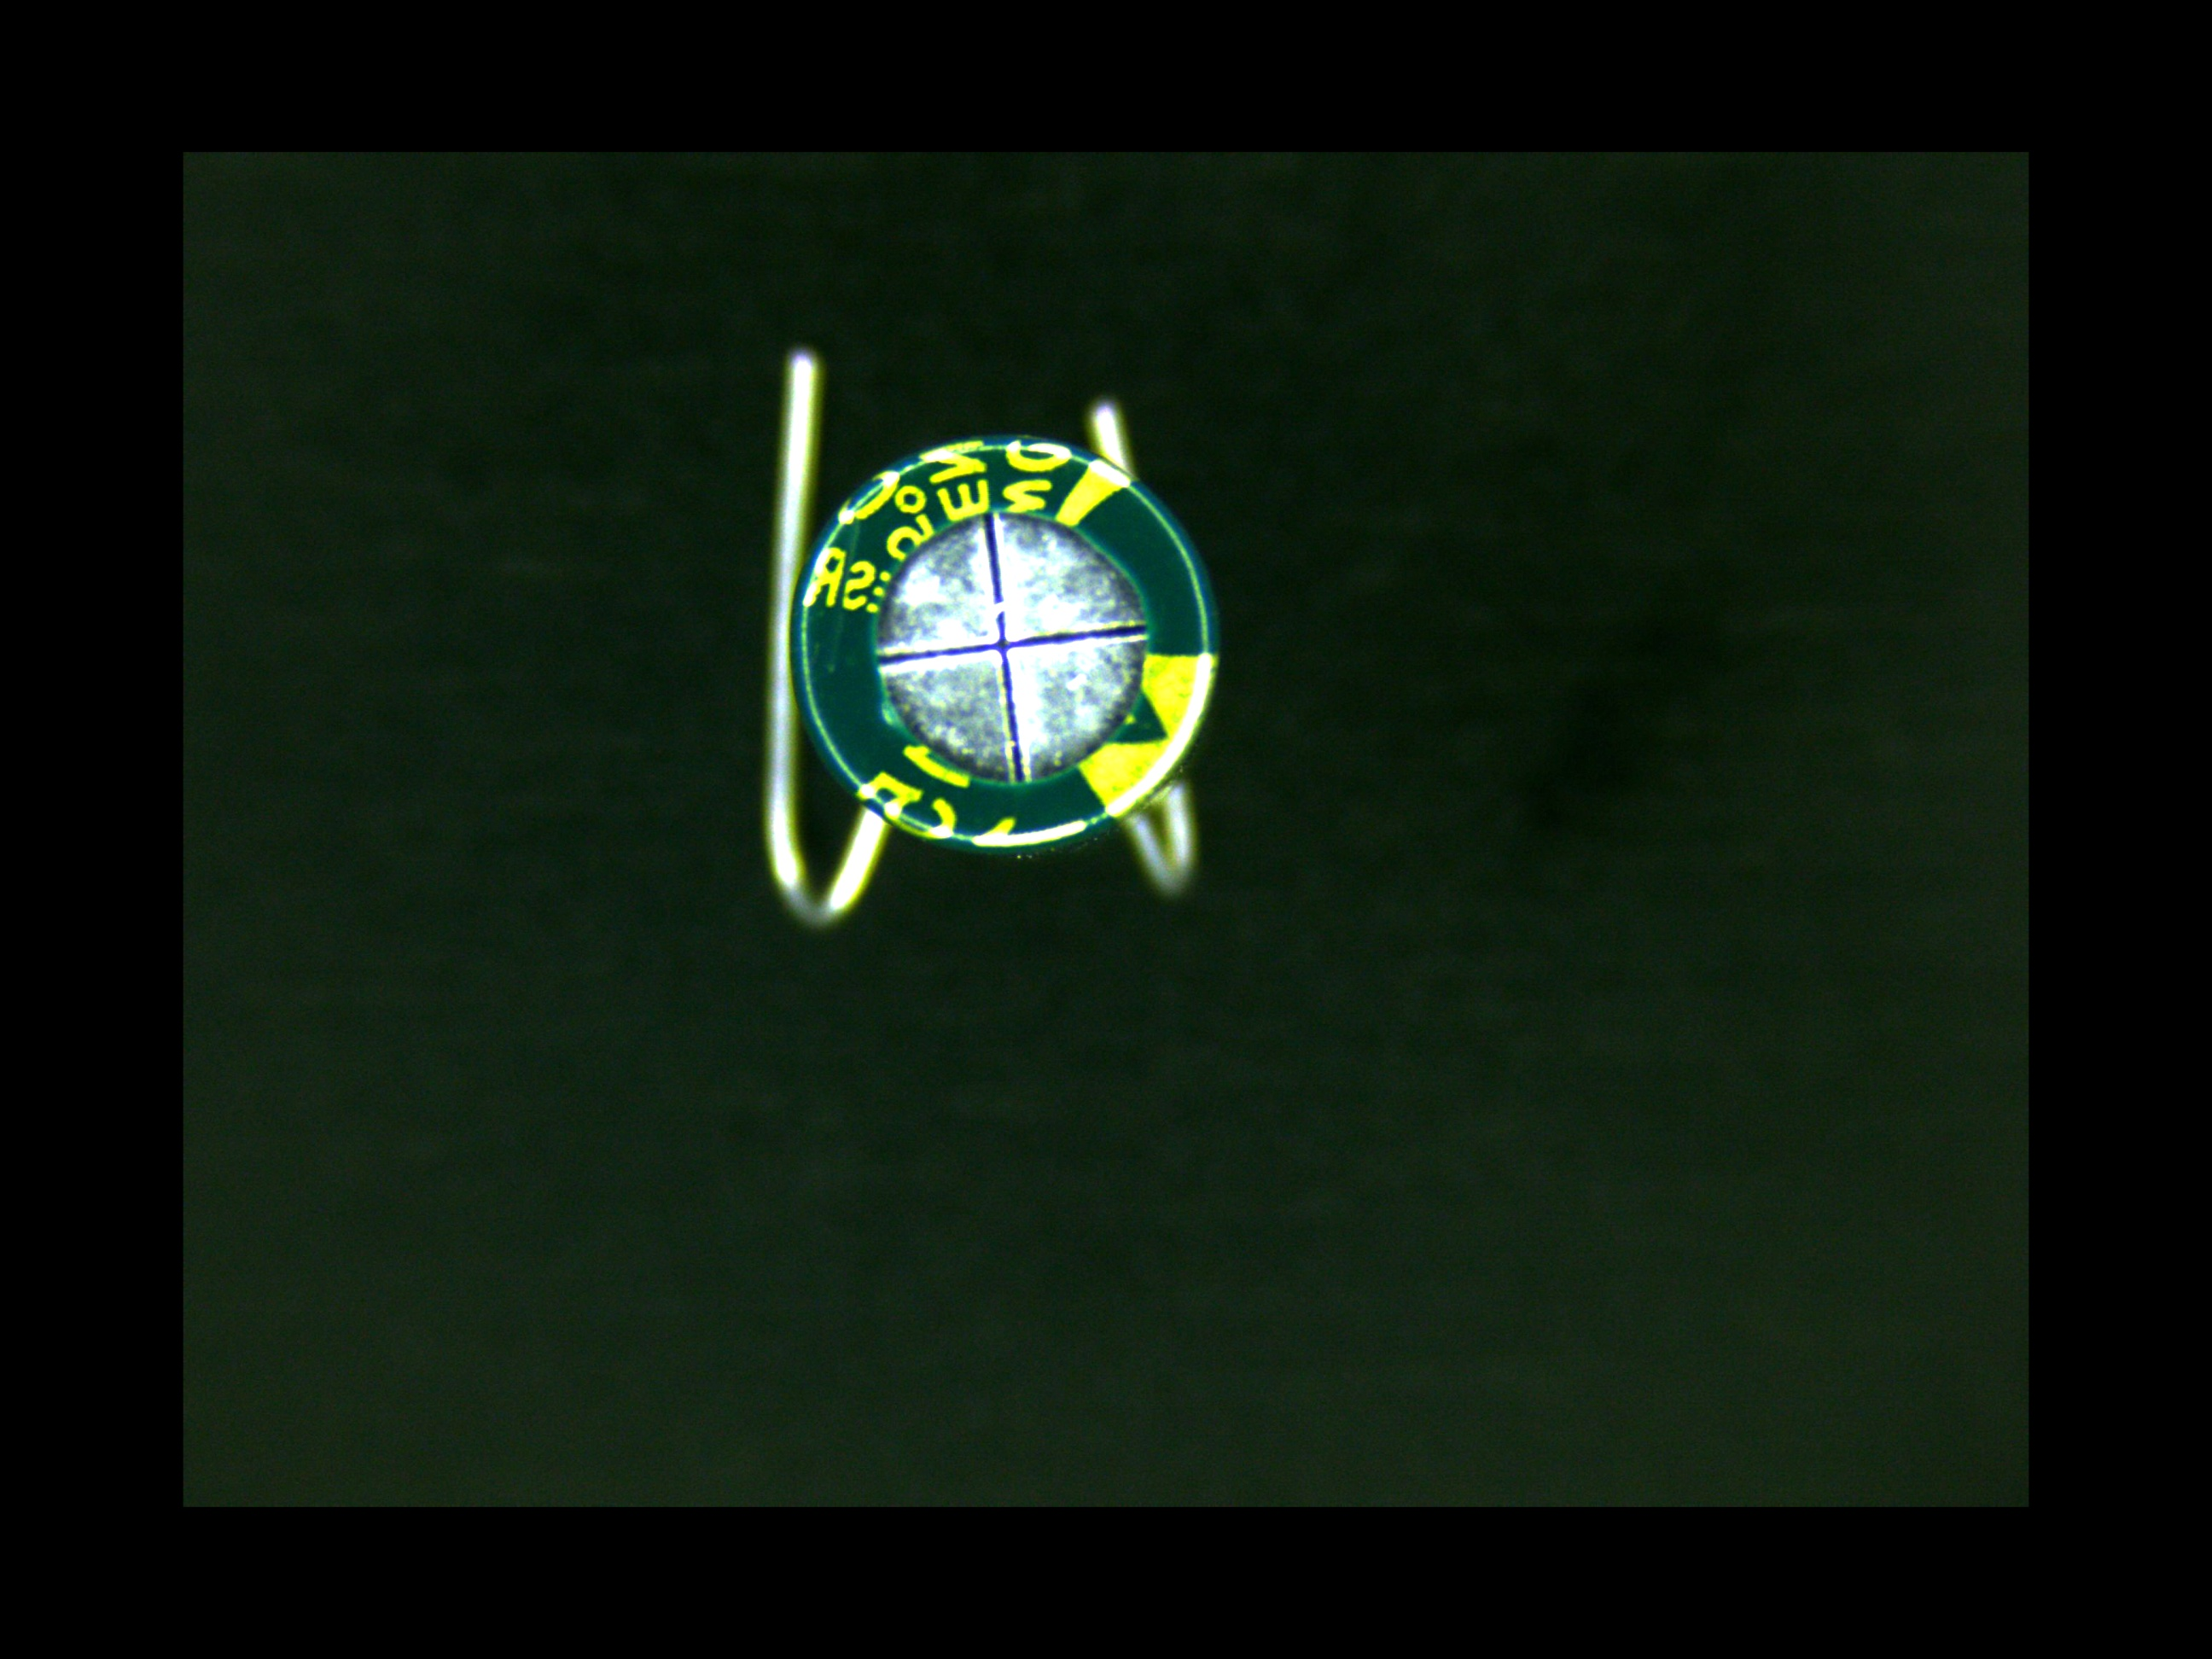c1: (789, 432, 1214, 854)
